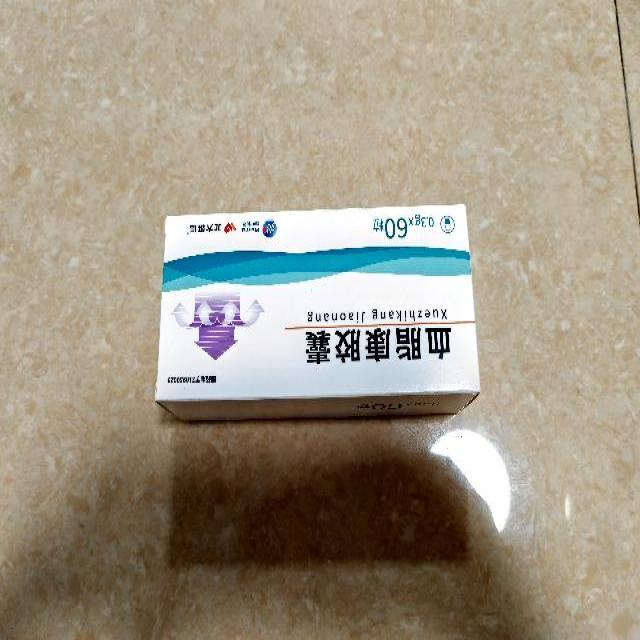box: (158, 205, 480, 422)
